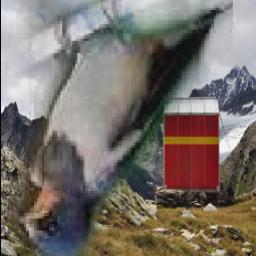Swallow: (8, 0, 233, 256)
